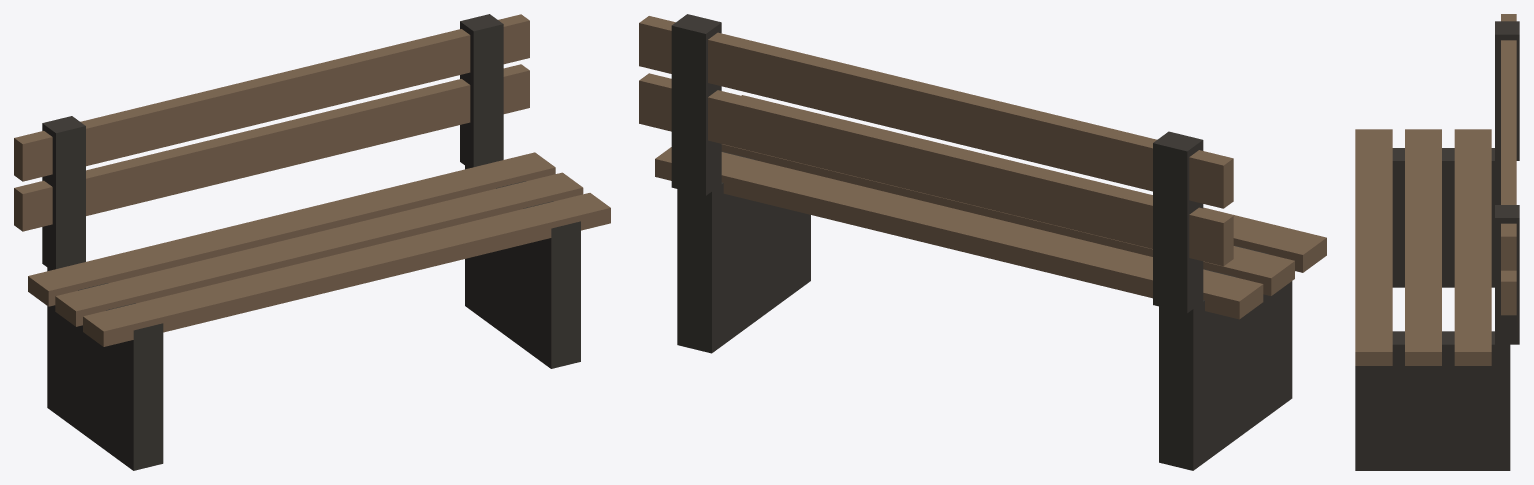
The model's file is bank.glb.
3 views of the same model, side by side, from view 1: azimuth 30°, elevation 25°; view 2: azimuth 150°, elevation 25°; view 3: azimuth 270°, elevation 25° (orthographic). The views are drawn at different scales.
Parts seen in each view (by area): view 1: ahsap, demir; view 2: ahsap, demir; view 3: ahsap, demir.
Part boxes in pixels (left/top/right/bottom): ahsap: left=14, top=14, right=610, bottom=346; demir: left=42, top=14, right=580, bottom=470; ahsap: left=639, top=16, right=1326, bottom=319; demir: left=671, top=14, right=1292, bottom=470; ahsap: left=1355, top=14, right=1516, bottom=365; demir: left=1355, top=21, right=1519, bottom=470.
Size of the model in its own units: 1.7 by 0.9001 by 0.53.
